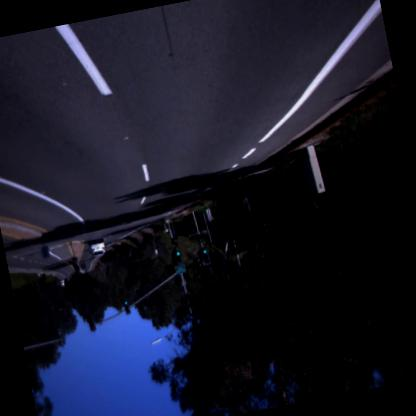trafficlight: (200, 246, 210, 266), (122, 298, 132, 316), (87, 314, 96, 330), (173, 248, 182, 262)
